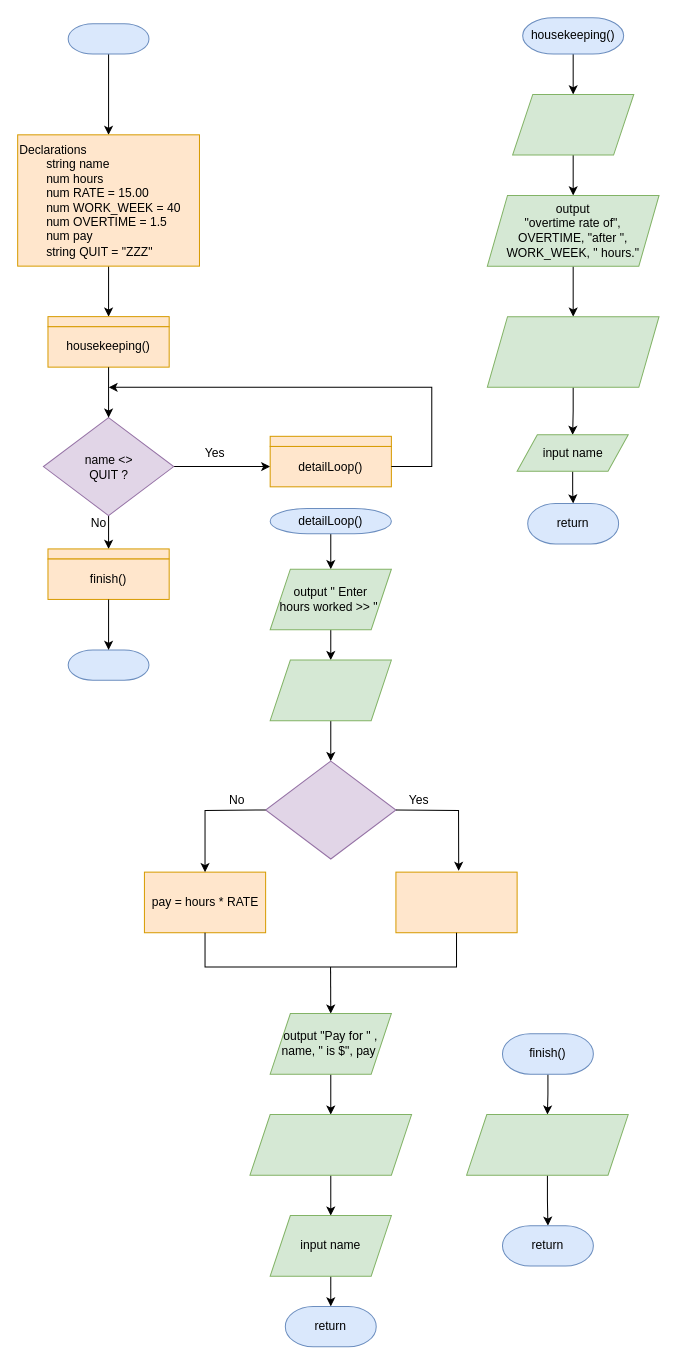
Image size: 677x1365. Some labels were removed from this diagram. Here are the shapes that lost their labels. From the top down, the centre of each, then its label:
(x=108, y=38): start
(x=573, y=124): output "This program computes payroll based on"
(x=572, y=351): output "Enter employee name or ", QUIT, " to quit >> "
(x=108, y=664): stop
(x=330, y=690): input hours
(x=330, y=809): hours > WORK_WEEK?
(x=456, y=902): pay = (WORK_WEEK * RATE) + (hours - WORK_WEEK) * RATE * OVERTIME
(x=330, y=1144): output "Enter employee name or ", QUIT, "to quit >> "
(x=547, y=1144): output "Overtime pay calculations complete"
